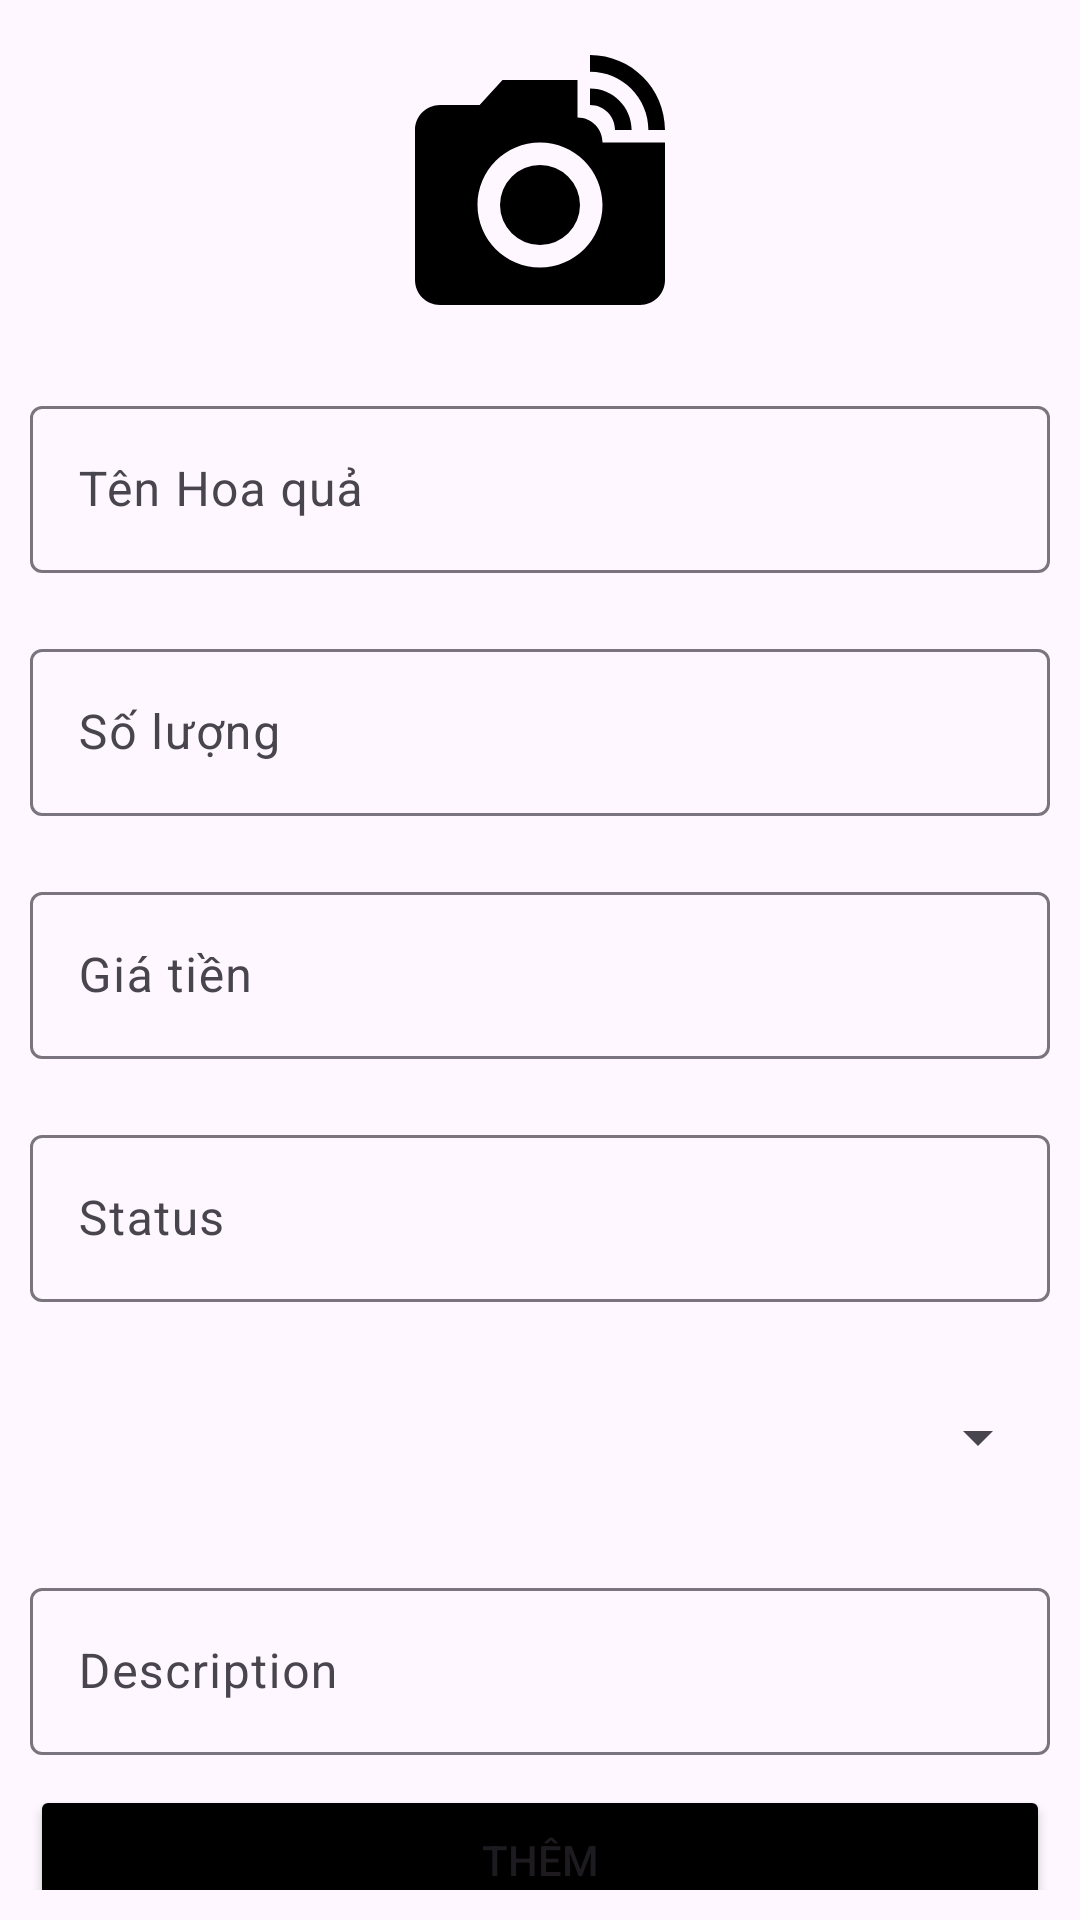

Icons on this 1080 × 1920 Android screen, each with its box as [x1,y1,x2,y2]:
camera: [415,55,665,305]
